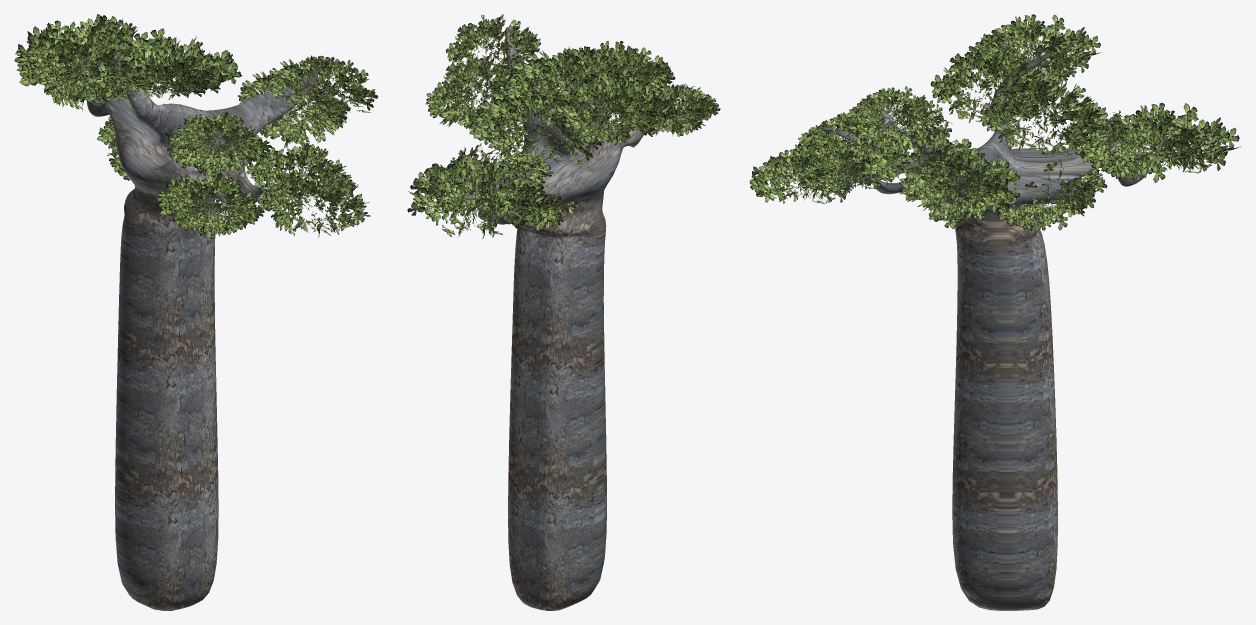
File: baobab2.glb
The picture shows the model from 3 angles, left to right: view 1: azimuth 30°, elevation 25°; view 2: azimuth 150°, elevation 25°; view 3: azimuth 270°, elevation 25°; orthographic projection. The views are drawn at different scales.
Parts seen in each view (by area): view 1: Cube, baobab leaves.007, baobab leaves.013, baobab leaves.001, baobab leaves.009, baobab leaves.003, baobab leaves.002, baobab leaves.006, baobab leaves.004, baobab leaves.005, baobab leaves.012, baobab leaves.010 (+3 smaller); view 2: Cube, baobab leaves.010, baobab leaves.007, baobab leaves.017, baobab leaves.013, baobab leaves.011, baobab leaves.009, baobab leaves.012, baobab leaves.003, baobab leaves.016, baobab leaves.008, baobab leaves.004 (+5 smaller); view 3: Cube, baobab leaves.010, baobab leaves.013, baobab leaves.017, baobab leaves.007, baobab leaves.011, baobab leaves.009, baobab leaves.001, baobab leaves.012, baobab leaves.002, baobab leaves.016, baobab leaves.004 (+4 smaller).
Part boxes in pixels (<box>): Cube: <box>79,36,317,610</box>; baobab leaves.007: <box>17,25,150,108</box>; baobab leaves.013: <box>84,28,242,100</box>; baobab leaves.001: <box>256,169,370,237</box>; baobab leaves.009: <box>265,55,378,120</box>; baobab leaves.003: <box>156,172,259,234</box>; baobab leaves.002: <box>246,142,351,202</box>; baobab leaves.006: <box>165,125,271,176</box>; baobab leaves.004: <box>177,112,259,159</box>; baobab leaves.005: <box>171,191,264,238</box>; baobab leaves.012: <box>238,68,350,132</box>; baobab leaves.010: <box>14,14,153,110</box>; Cube: <box>466,27,684,610</box>; baobab leaves.010: <box>407,154,552,238</box>; baobab leaves.007: <box>551,71,676,143</box>; baobab leaves.017: <box>469,88,603,171</box>; baobab leaves.013: <box>503,47,633,131</box>; baobab leaves.011: <box>425,143,553,218</box>; baobab leaves.009: <box>446,14,540,76</box>; baobab leaves.012: <box>434,54,511,115</box>; baobab leaves.003: <box>622,82,720,135</box>; baobab leaves.016: <box>425,74,520,129</box>; baobab leaves.008: <box>571,101,643,145</box>; baobab leaves.004: <box>584,50,662,91</box>; Cube: <box>817,51,1180,610</box>; baobab leaves.010: <box>1088,103,1240,177</box>; baobab leaves.013: <box>930,44,1058,126</box>; baobab leaves.017: <box>980,78,1107,154</box>; baobab leaves.007: <box>967,14,1100,78</box>; baobab leaves.011: <box>1067,110,1203,182</box>; baobab leaves.009: <box>861,123,982,179</box>; baobab leaves.001: <box>749,143,866,203</box>; baobab leaves.012: <box>899,143,1019,200</box>; baobab leaves.002: <box>793,137,892,195</box>; baobab leaves.016: <box>899,173,1019,228</box>; baobab leaves.004: <box>852,86,934,130</box>.
Bounding box in the file's own units: 11.27 × 22.15 × 17.92.
Materials: 2 (2 with a texture image).
